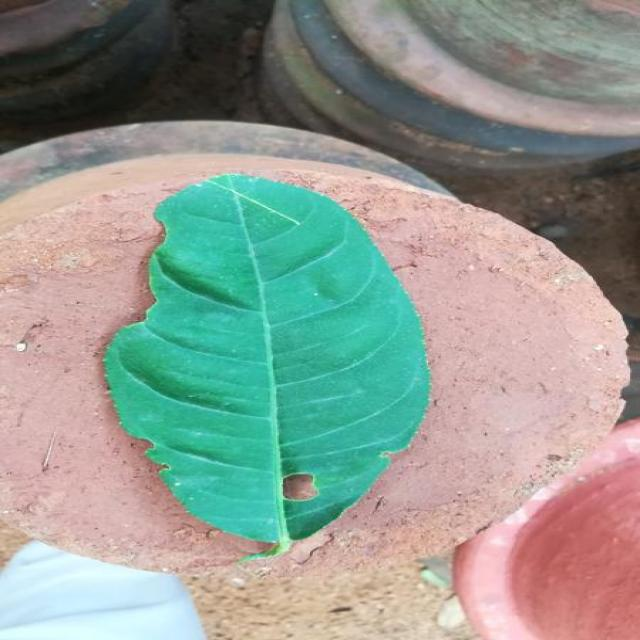badipala: (105, 174, 430, 556)
defectedbadipala: (282, 471, 362, 539)
